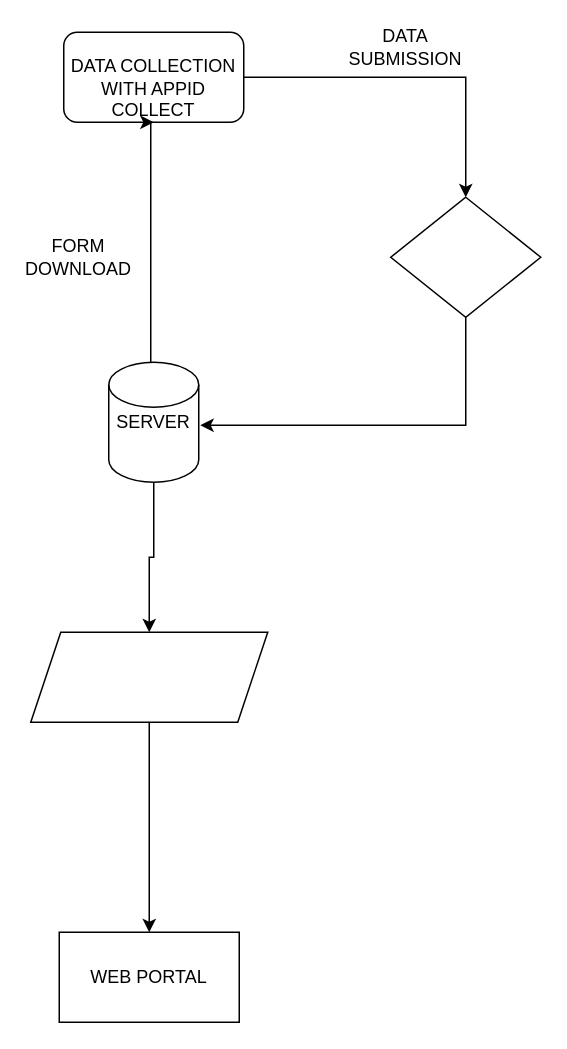
Some shapes in this 567 by 1049 pixel diagram are drawn without their labels. Each missing label, with the centre of its shape:
"DATA VERIFICATON / VALIDATION" goes at (148,676).
"FORM VALIDATION" goes at (465,256).
